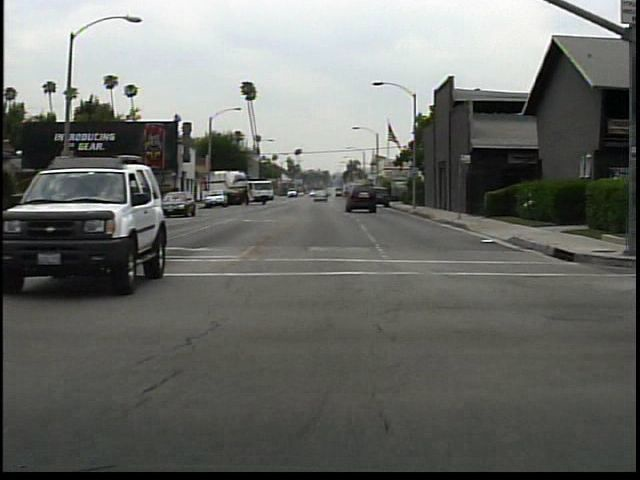person: (84, 182, 105, 221)
